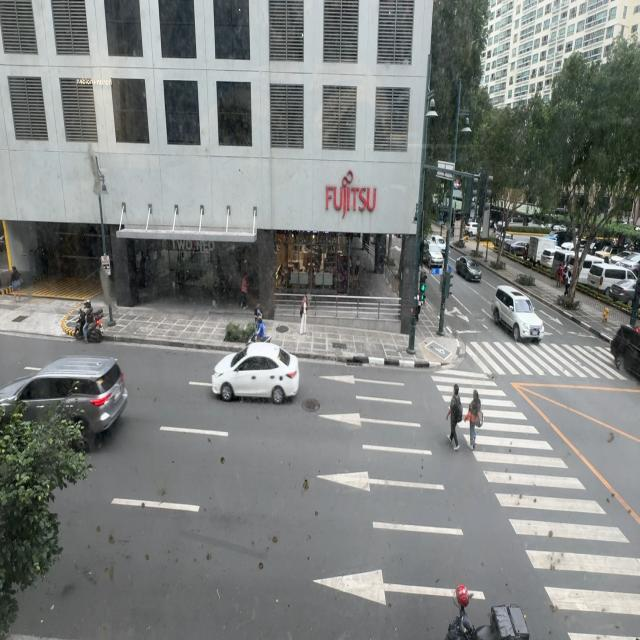crossing: (467, 389, 482, 450)
jaywalking: (447, 384, 462, 450)
